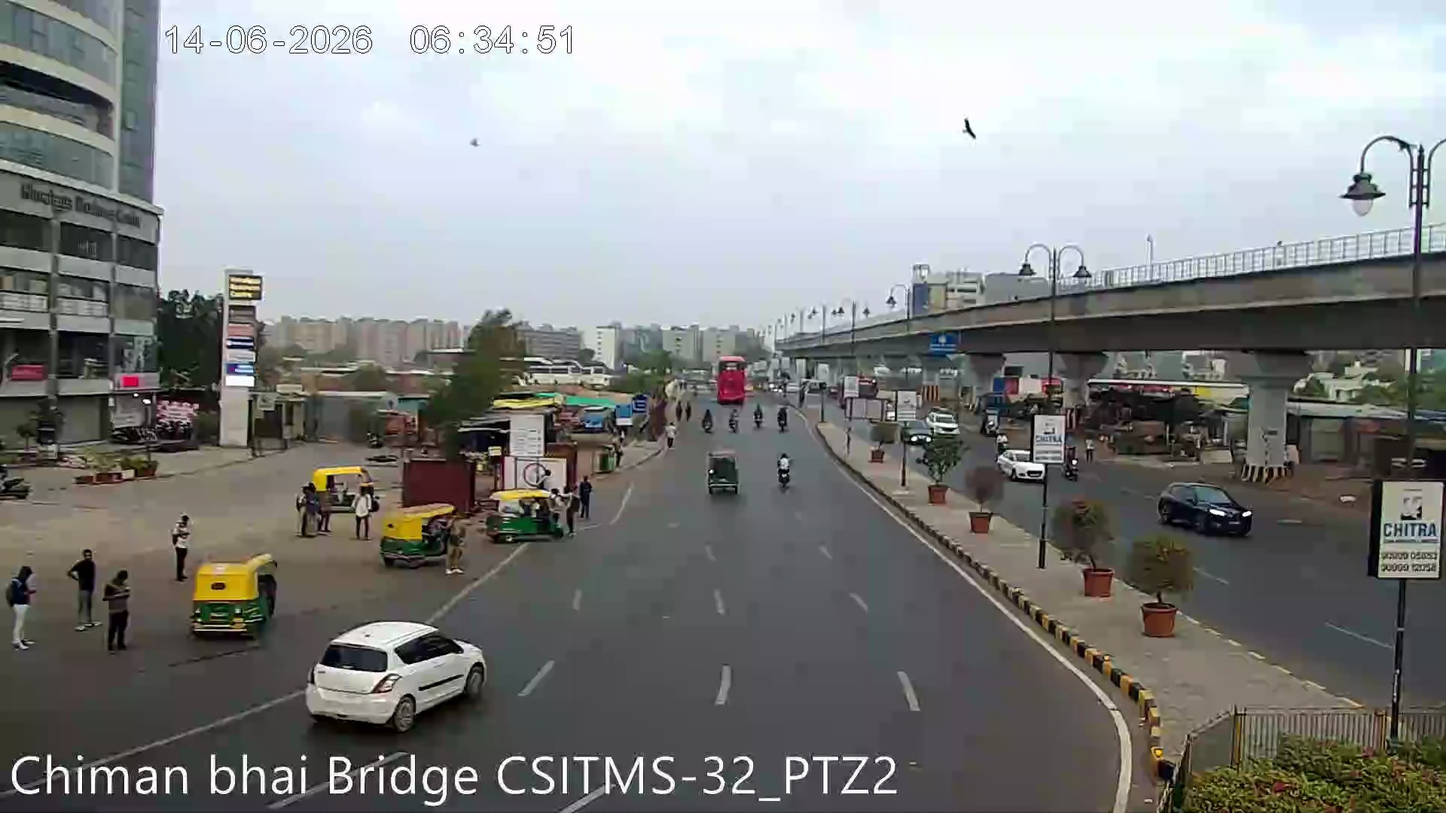auto_rickshaw: (187, 548, 281, 639), (378, 505, 459, 568), (297, 459, 374, 519), (486, 486, 566, 543), (704, 446, 743, 499)
bus: (714, 351, 751, 400)
car: (304, 612, 490, 727), (1155, 475, 1254, 538), (996, 446, 1047, 482)
pedestrian: (66, 540, 112, 649), (0, 555, 42, 656), (100, 557, 138, 660), (65, 539, 101, 637), (577, 469, 597, 527), (352, 494, 370, 541), (696, 401, 715, 436), (664, 417, 679, 455), (725, 402, 742, 435), (750, 400, 766, 432), (775, 400, 790, 433)
two_wheeler: (0, 459, 32, 499), (774, 448, 796, 495), (1062, 448, 1081, 482)
